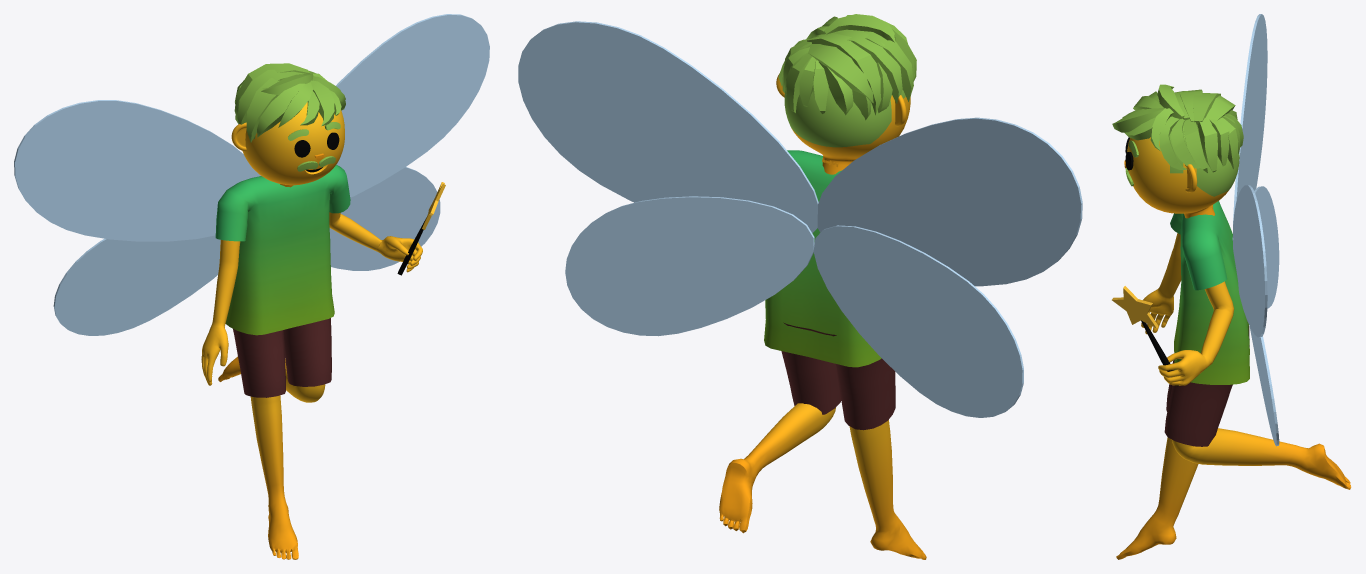
Rendered from man_fairy.fbx.
3 views of the same model, side by side, from view 1: azimuth 30°, elevation 25°; view 2: azimuth 150°, elevation 25°; view 3: azimuth 270°, elevation 25° (orthographic). The views are drawn at different scales.
Parts seen in each view (by area): view 1: Circle.1009, Circle.1008, Cube.2512, Roundcube.214; view 2: Circle.1009, Circle.1008, Cube.2512, Roundcube.214; view 3: Circle.1008, Circle.1009, Cube.2512, Roundcube.214, Cube.2502.
Boxes of the visible parts, x1,y1,x2,y2 form: Circle.1009: [14, 14, 489, 335]; Circle.1008: [201, 165, 422, 559]; Cube.2512: [234, 63, 345, 142]; Roundcube.214: [242, 102, 344, 187]; Circle.1009: [518, 21, 1082, 417]; Circle.1008: [719, 150, 926, 559]; Cube.2512: [778, 14, 916, 120]; Roundcube.214: [784, 87, 910, 174]; Circle.1008: [1116, 201, 1351, 559]; Circle.1009: [1232, 14, 1279, 446]; Cube.2512: [1112, 84, 1243, 172]; Roundcube.214: [1127, 116, 1239, 218]; Cube.2502: [1112, 286, 1178, 386].
Bounding box in the file's own units: 217 × 202 × 91.66.
Materials: 2 (2 with a texture image).
